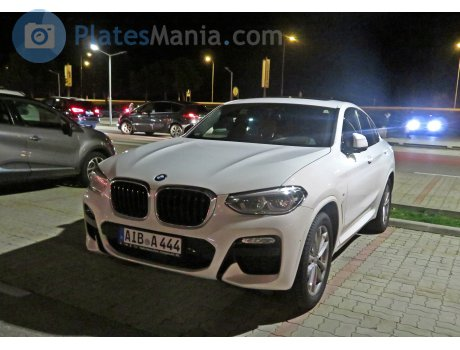License Plates: (119, 227, 180, 247)
